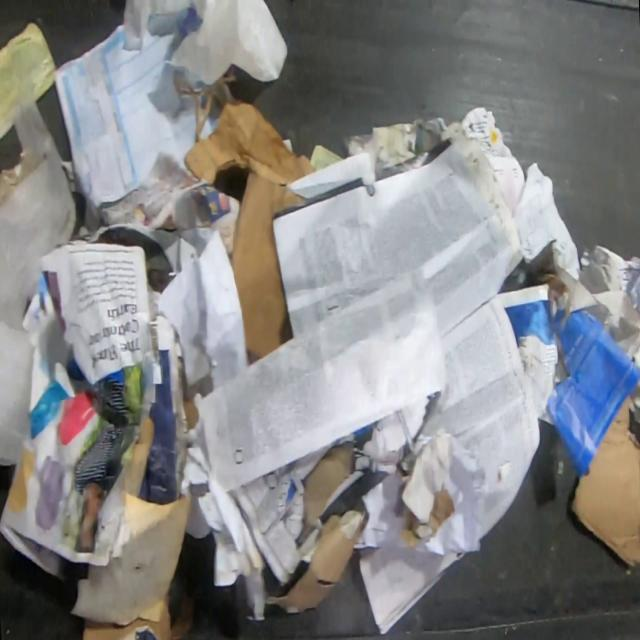cardboard: (187, 387, 441, 620), (184, 98, 316, 367), (69, 415, 196, 640), (567, 395, 640, 570)
soft_plastic: (0, 98, 78, 467), (122, 0, 288, 84)
